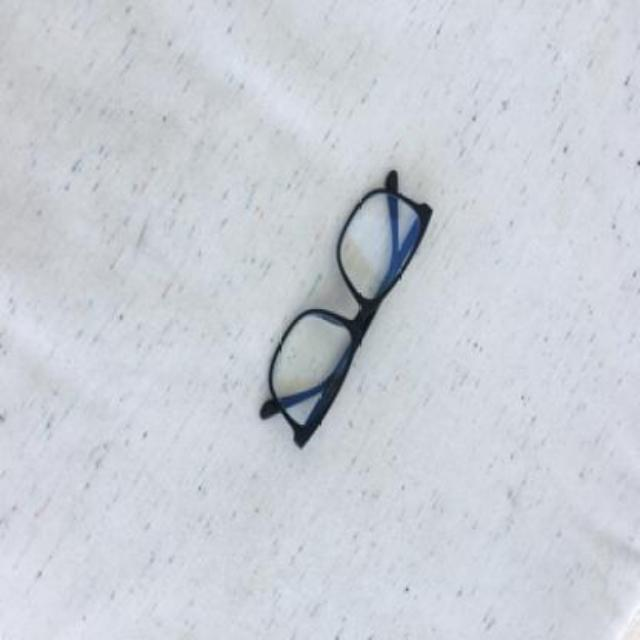glasses: (258, 168, 432, 450)
